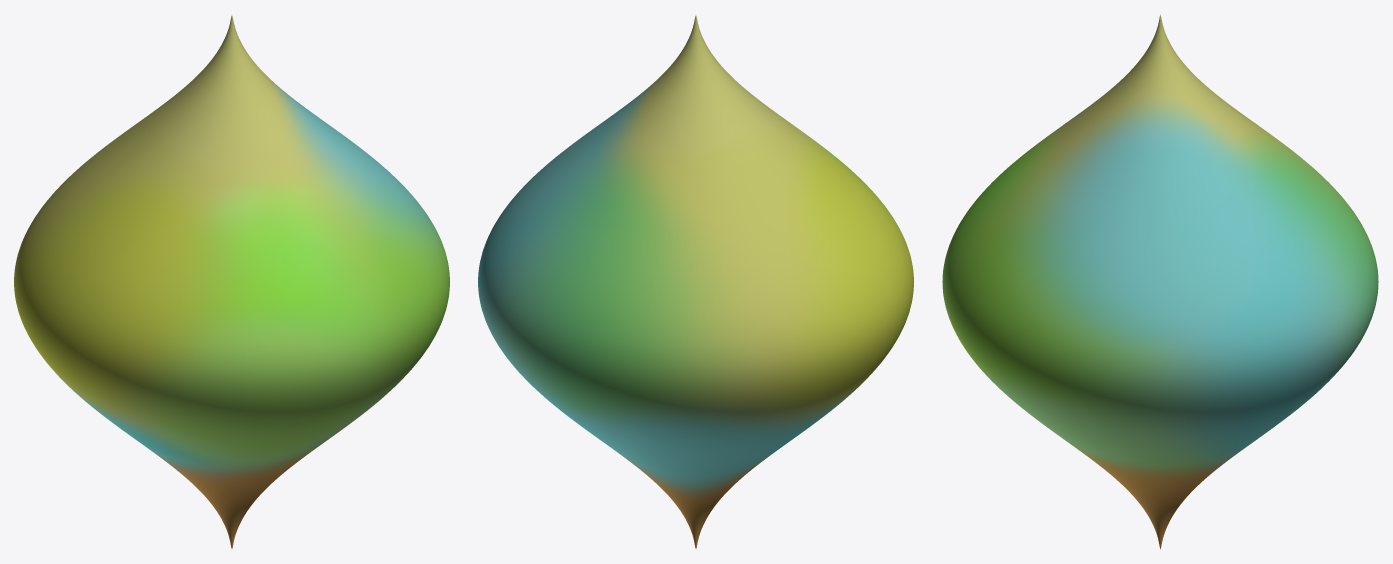
The model's file is onion.fbx.
3 views of the same model, side by side, from view 1: azimuth 30°, elevation 25°; view 2: azimuth 150°, elevation 25°; view 3: azimuth 270°, elevation 25° (orthographic).
Parts seen in each view (by area): view 1: PM3D_SweepProfile3D_1; view 2: PM3D_SweepProfile3D_1; view 3: PM3D_SweepProfile3D_1.
Boxes of the visible parts, x1,y1,x2,y2 form: PM3D_SweepProfile3D_1: (14, 15, 449, 548); PM3D_SweepProfile3D_1: (478, 15, 913, 548); PM3D_SweepProfile3D_1: (942, 14, 1378, 549).
Bounding box in the file's own units: 1.46 × 1.98 × 1.46.
